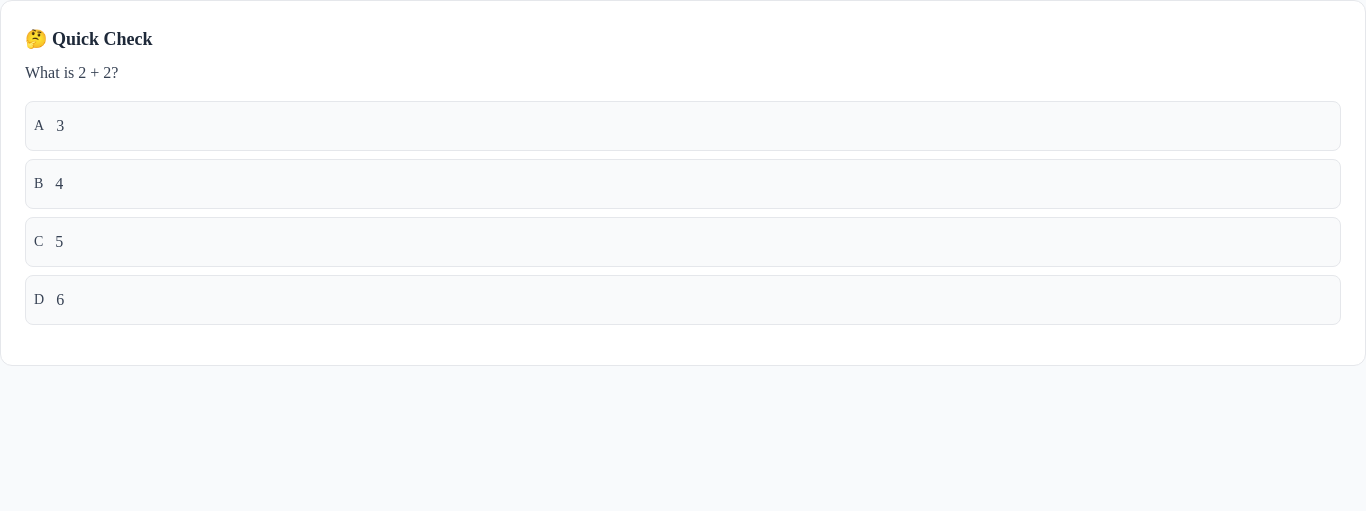
Scenario: InteractiveQuiz › shows explanation after answering
Click the text "4".
click(59, 184)  # box [55, 172, 63, 196]
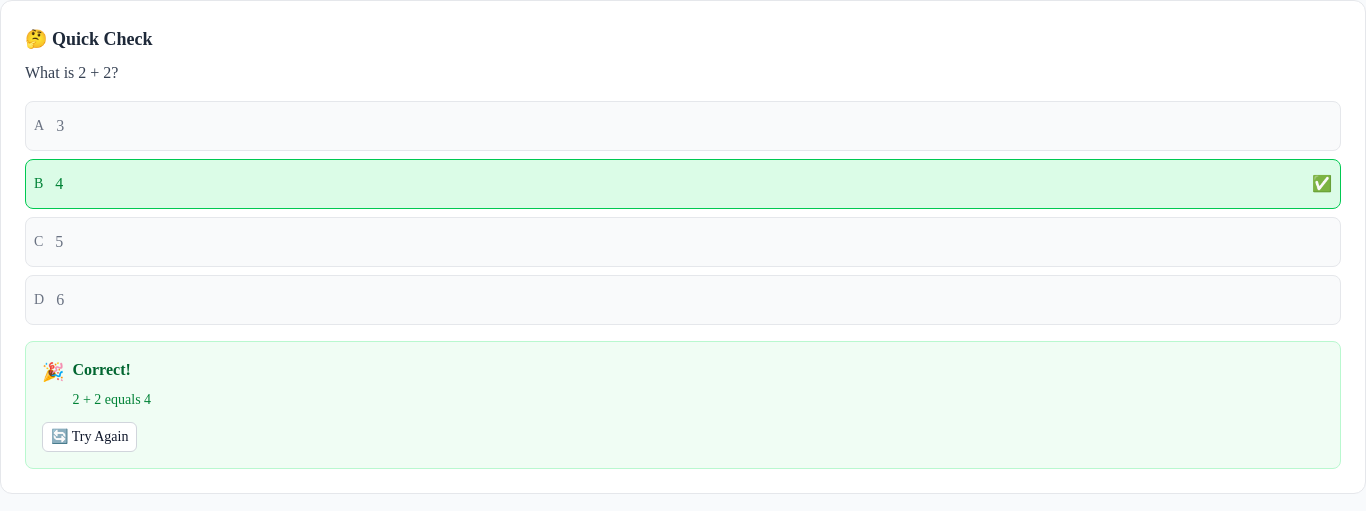
expect the text "2 + 2 equals 4" is shown: met, box [72, 390, 151, 410]
